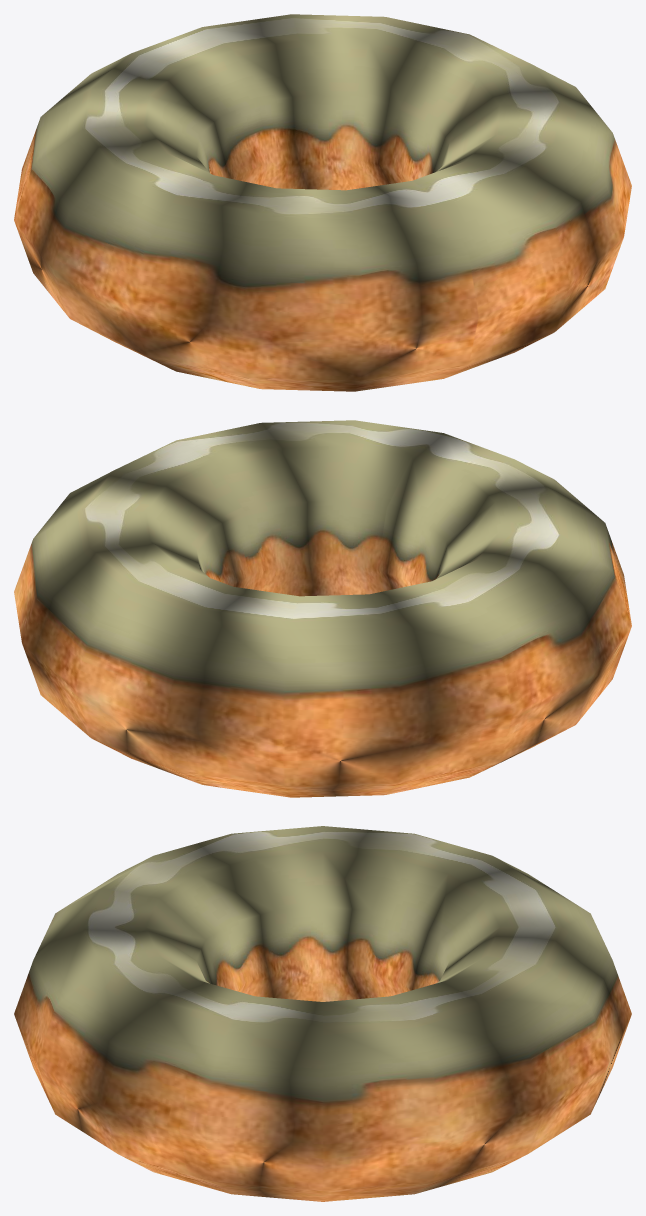
Rendered from doughnut.fbx.
3 renders of one model, top to bottom at view 1: azimuth 30°, elevation 25°; view 2: azimuth 150°, elevation 25°; view 3: azimuth 270°, elevation 25°, orthographic.
Visible parts, largest first — view 1: FACESET_Doughnut; view 2: FACESET_Doughnut; view 3: FACESET_Doughnut.
Part boxes in pixels (x1,y1,x2,y2): FACESET_Doughnut: (14,14,631,391); FACESET_Doughnut: (14,420,631,797); FACESET_Doughnut: (14,826,631,1201).
Bounding box in the file's own units: 4.85 × 1.5 × 4.85.
